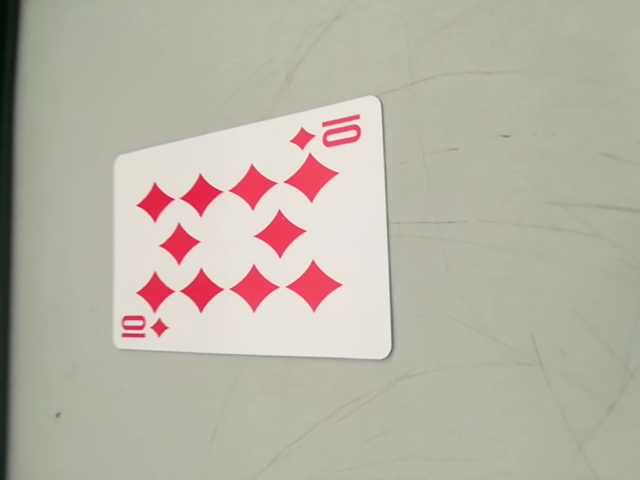fk 10: (290, 109, 370, 158), (113, 309, 173, 350)
